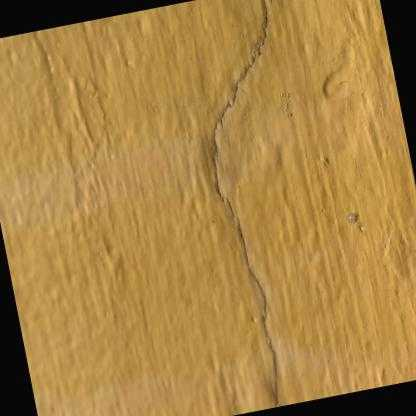crack: (209, 0, 280, 407)
